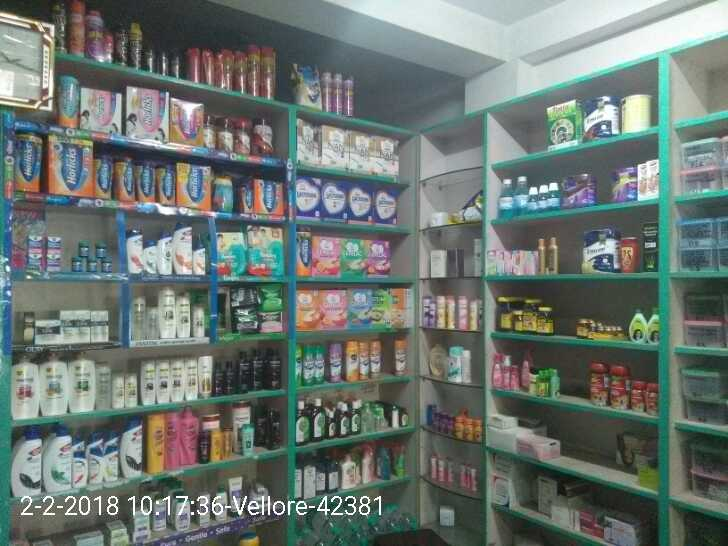vicks: (67, 235, 112, 274), (26, 235, 61, 270)
